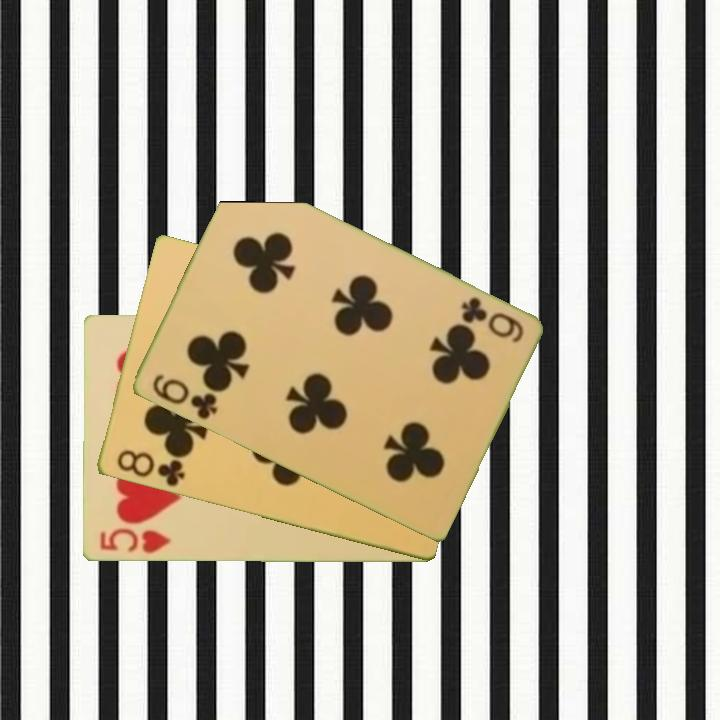5h: (96, 525, 173, 557)
6c: (148, 370, 220, 423), (457, 293, 526, 347)
8c: (113, 446, 187, 490)
